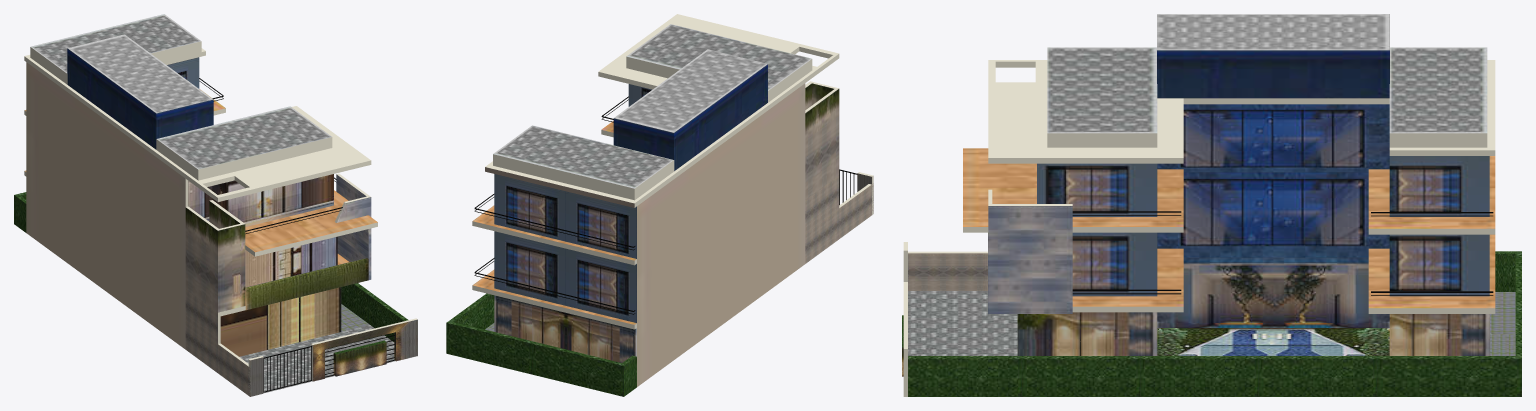
3 renders of one model, left to right at view 1: azimuth 30°, elevation 25°; view 2: azimuth 150°, elevation 25°; view 3: azimuth 270°, elevation 25°, orthographic. The views are drawn at different scales.
Visible parts, largest first — view 1: 5eb8be8e1128d113bc24ab54; view 2: 5eb8be8e1128d113bc24ab54; view 3: 5eb8be8e1128d113bc24ab54.
Boxes of the visible parts, box(x1,y1,x2,y2) form: 5eb8be8e1128d113bc24ab54: box(14, 14, 417, 396); 5eb8be8e1128d113bc24ab54: box(446, 14, 873, 396); 5eb8be8e1128d113bc24ab54: box(902, 14, 1521, 396).
Size of the model in its own units: 12 by 14.51 by 29.33.
1 material, 1 textured.
